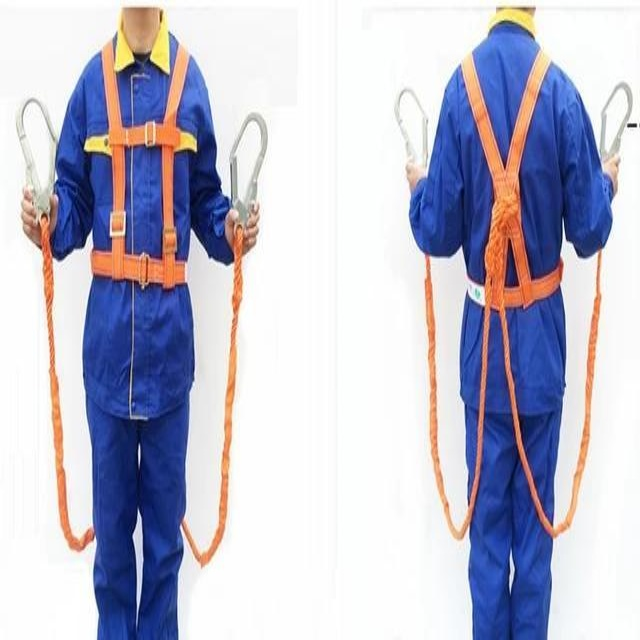Arnes_seguridad: (448, 41, 570, 326), (83, 22, 195, 299)
